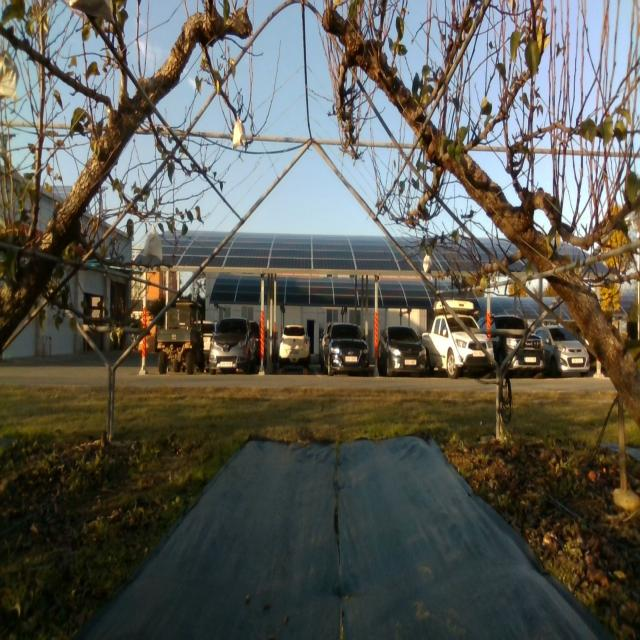pearbags: (0, 50, 19, 95), (143, 230, 162, 260), (233, 121, 246, 148)
